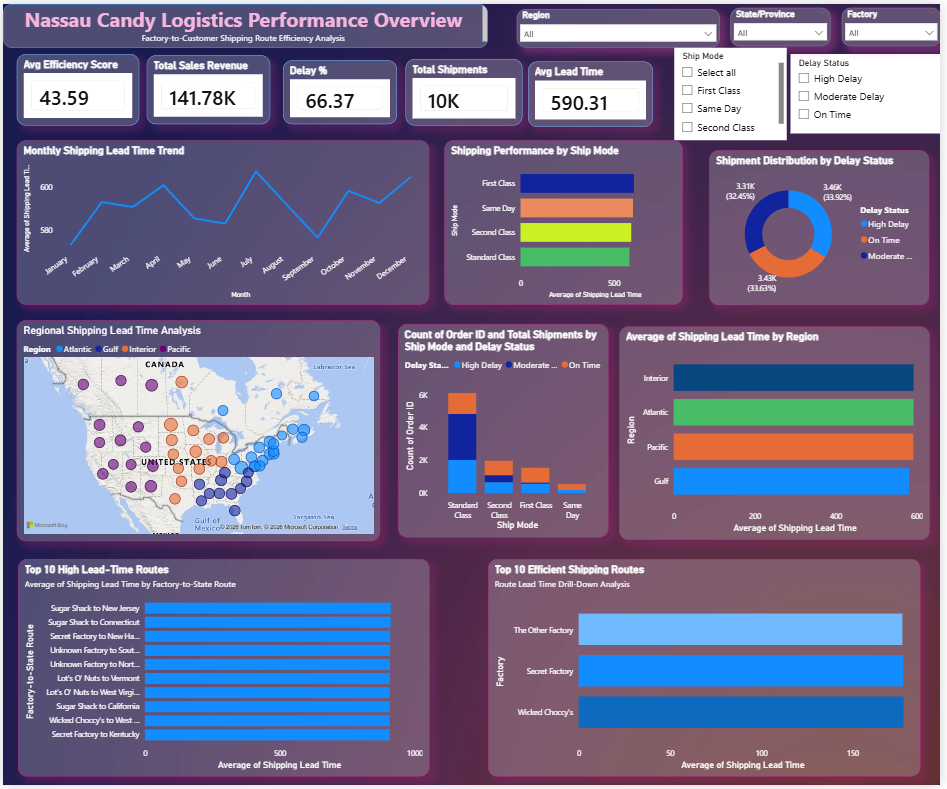

The page's visual inventory and layout, read from the dashboard file:
{"tool":"powerbi","page":{"name":"Dashboard 1","canvas":[1500,1250],"ordinal":0},"visuals":[{"type":"cardVisual","title":"Total Shipments","fields":{"Data":["nassau_candy_clean_dataset.Total Shipments"]},"box":[643.8,87.5,187.5,106.2],"z":0},{"type":"cardVisual","title":"Total Sales Revenue","fields":{"Data":["nassau_candy_clean_dataset.Total Sales"]},"box":[230,82.5,197.5,110],"z":1000},{"type":"cardVisual","title":"Avg Lead Time","fields":{"Data":["nassau_candy_clean_dataset.Avg Lead Time"]},"box":[840,91.2,200,105],"z":2000},{"type":"cardVisual","title":"Delay %","fields":{"Data":["nassau_candy_clean_dataset.Delay %"]},"box":[448.8,90,182.5,102.5],"z":3000},{"type":"cardVisual","title":"Avg Efficiency Score","fields":{"Data":["nassau_candy_clean_dataset.Avg Efficiency Score"]},"box":[22,80,196,114],"z":4000},{"type":"lineChart","title":"Monthly Shipping Lead Time Trend","fields":{"Y":["Avg(nassau_candy_clean_dataset.Shipping Lead Time)"],"Category":["nassau_candy_clean_dataset.Ship Date Corrected.Variation.Date Hierarchy.Month"]},"box":[21.7,218.3,660,263.3],"z":5000},{"type":"donutChart","title":"Shipment Distribution by Delay Status","fields":{"Category":["nassau_candy_clean_dataset.Delay Status"],"Y":["CountNonNull(nassau_candy_clean_dataset.Order ID)"]},"box":[1130,233.3,351.7,248.3],"z":6000},{"type":"clusteredBarChart","fields":{"Y":["Avg(nassau_candy_clean_dataset.Shipping Lead Time)"],"Category":["nassau_candy_clean_dataset.Region"]},"box":[985,516.7,496.7,341.7],"z":7000},{"type":"slicer","fields":{"Values":["nassau_candy_clean_dataset.Region"]},"box":[821.7,8.3,325,61.7],"z":8000},{"type":"slicer","fields":{"Values":["nassau_candy_clean_dataset.Delay Status"]},"box":[1260,80,240,127.5],"z":9000},{"type":"slicer","fields":{"Values":["nassau_candy_clean_dataset.State/Province"]},"box":[1163.8,5,160,61.2],"z":10000},{"type":"slicer","fields":{"Values":["nassau_candy_clean_dataset.Factory"]},"box":[1341.2,5,158.8,61.2],"z":11000},{"type":"slicer","fields":{"Values":["nassau_candy_clean_dataset.Ship Mode"]},"box":[1073.3,70,180,148.3],"z":12000},{"type":"clusteredBarChart","title":"Top 10 High Lead-Time Routes","fields":{"Category":["nassau_candy_clean_dataset.Factory-to-State Route"],"Y":["Avg(nassau_candy_clean_dataset.Shipping Lead Time)"]},"box":[23.3,888.3,658.3,348.3],"z":13000},{"type":"clusteredBarChart","title":"Top 10 Efficient Shipping Routes","fields":{"Category":["nassau_candy_clean_dataset.Factory","nassau_candy_clean_dataset.State/Province","nassau_candy_clean_dataset.Factory-to-State Route"],"Y":["Avg(nassau_candy_clean_dataset.Shipping Lead Time)"]},"box":[776.7,888.3,691.7,348.3],"z":14000},{"type":"clusteredBarChart","title":"Shipping Performance by Ship Mode","fields":{"Category":["nassau_candy_clean_dataset.Ship Mode"],"Y":["Avg(nassau_candy_clean_dataset.Shipping Lead Time)"]},"box":[706.7,218.3,381.7,263.3],"z":15000},{"type":"map","title":"Regional Shipping Lead Time Analysis","fields":{"Size":["Avg(nassau_candy_clean_dataset.Shipping Lead Time)"],"Category":["nassau_candy_clean_dataset.State/Province"],"Series":["nassau_candy_clean_dataset.Region"]},"box":[21.7,505,581.7,353.3],"z":16000},{"type":"columnChart","fields":{"Category":["nassau_candy_clean_dataset.Ship Mode"],"Y":["CountNonNull(nassau_candy_clean_dataset.Order ID)"],"Series":["nassau_candy_clean_dataset.Delay Status"]},"box":[631.7,511.7,336.7,341.7],"z":17000},{"type":"textbox","box":[0,0,776,70],"z":18000}]}

Visuals, with their boxes in screenshot pixels (x1, y1, x2, y2), scaled from the page's 1500x1250 canvas onto the 947x789 screenshot:
"Total Shipments" cardVisual: 406, 55, 525, 122
"Total Sales Revenue" cardVisual: 145, 52, 270, 122
"Avg Lead Time" cardVisual: 530, 58, 657, 124
"Delay %" cardVisual: 283, 57, 399, 122
"Avg Efficiency Score" cardVisual: 14, 50, 138, 122
"Monthly Shipping Lead Time Trend" lineChart: 14, 138, 430, 304
"Shipment Distribution by Delay Status" donutChart: 713, 147, 935, 304
clusteredBarChart - Avg(nassau_candy_clean_dataset.Shipping Lead Time) x nassau_candy_clean_dataset.Region: 622, 326, 935, 542
slicer - nassau_candy_clean_dataset.Region: 519, 5, 724, 44
slicer - nassau_candy_clean_dataset.Delay Status: 795, 50, 946, 131
slicer - nassau_candy_clean_dataset.State/Province: 735, 3, 836, 42
slicer - nassau_candy_clean_dataset.Factory: 847, 3, 946, 42
slicer - nassau_candy_clean_dataset.Ship Mode: 678, 44, 791, 138
"Top 10 High Lead-Time Routes" clusteredBarChart: 15, 561, 430, 781
"Top 10 Efficient Shipping Routes" clusteredBarChart: 490, 561, 927, 781
"Shipping Performance by Ship Mode" clusteredBarChart: 446, 138, 687, 304
"Regional Shipping Lead Time Analysis" map: 14, 319, 381, 542
columnChart - nassau_candy_clean_dataset.Ship Mode x CountNonNull(nassau_candy_clean_dataset.Order ID): 399, 323, 611, 539
textbox: 0, 0, 490, 44
